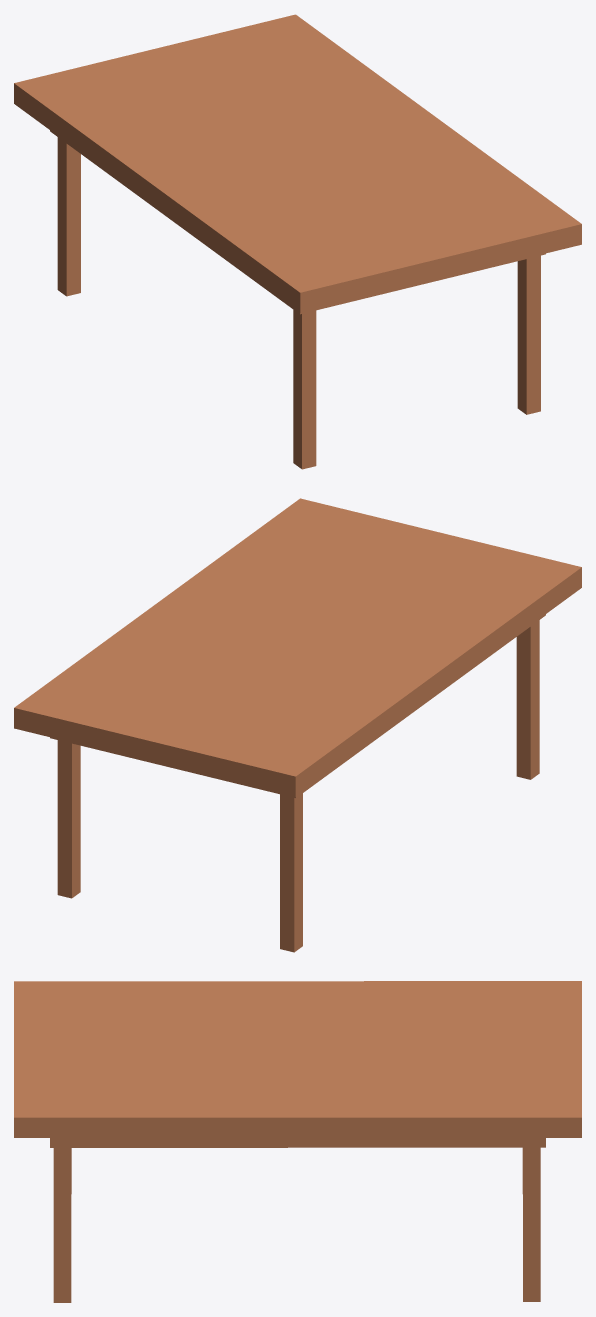
Rendered from desk.fbx.
The picture shows the model from 3 angles, top to bottom: view 1: azimuth 30°, elevation 25°; view 2: azimuth 150°, elevation 25°; view 3: azimuth 270°, elevation 25°; orthographic projection.
Visible parts, largest first — view 1: Cube.091, Cube.092, Cube.095, Cube.093; view 2: Cube.091, Cube.094, Cube.092, Cube.093; view 3: Cube.091, Cube.095, Cube.094.
Boxes of the visible parts, x1,y1,x2,y2 form: Cube.091: (14, 14, 581, 314); Cube.092: (293, 310, 316, 469); Cube.095: (517, 255, 540, 414); Cube.093: (57, 137, 80, 296); Cube.091: (14, 498, 581, 797); Cube.094: (57, 740, 80, 898); Cube.092: (516, 620, 539, 779); Cube.093: (280, 793, 302, 952); Cube.091: (14, 981, 581, 1147); Cube.095: (53, 1148, 71, 1302); Cube.094: (523, 1147, 540, 1301).
Bounding box in the file's own units: 66.44 × 44.4 × 117.
